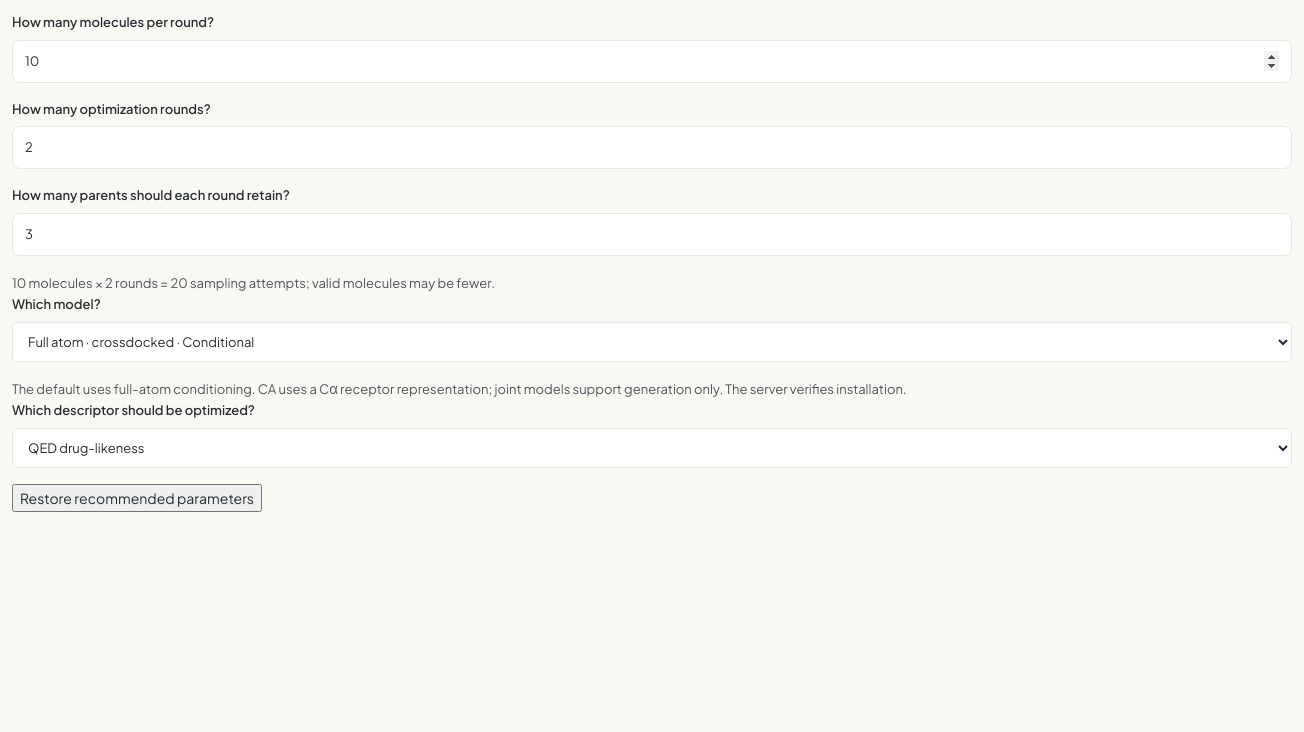
Test: shows actual optimization budget instead of an unused candidate count in en
The width and height of the screenshot is (1304, 732).
Replace the text in the number field labelled "How many molecules per round?" with "60". click: (652, 61)
box: 12,40 -> 1292,83
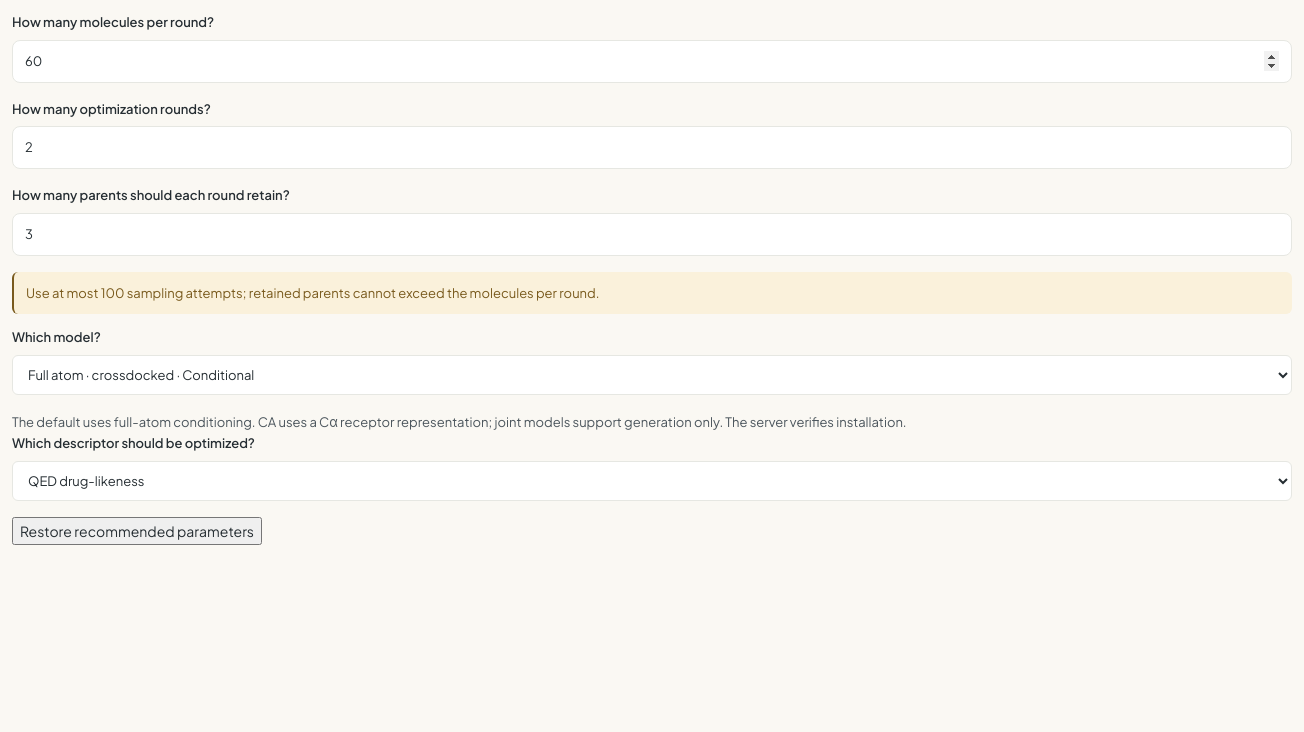
Check: the message shows "100", box 26,285 -> 599,301
Replace the text in the number field labelled "How many molecules per round?" with "12". click: (652, 61)
box: 12,40 -> 1292,83
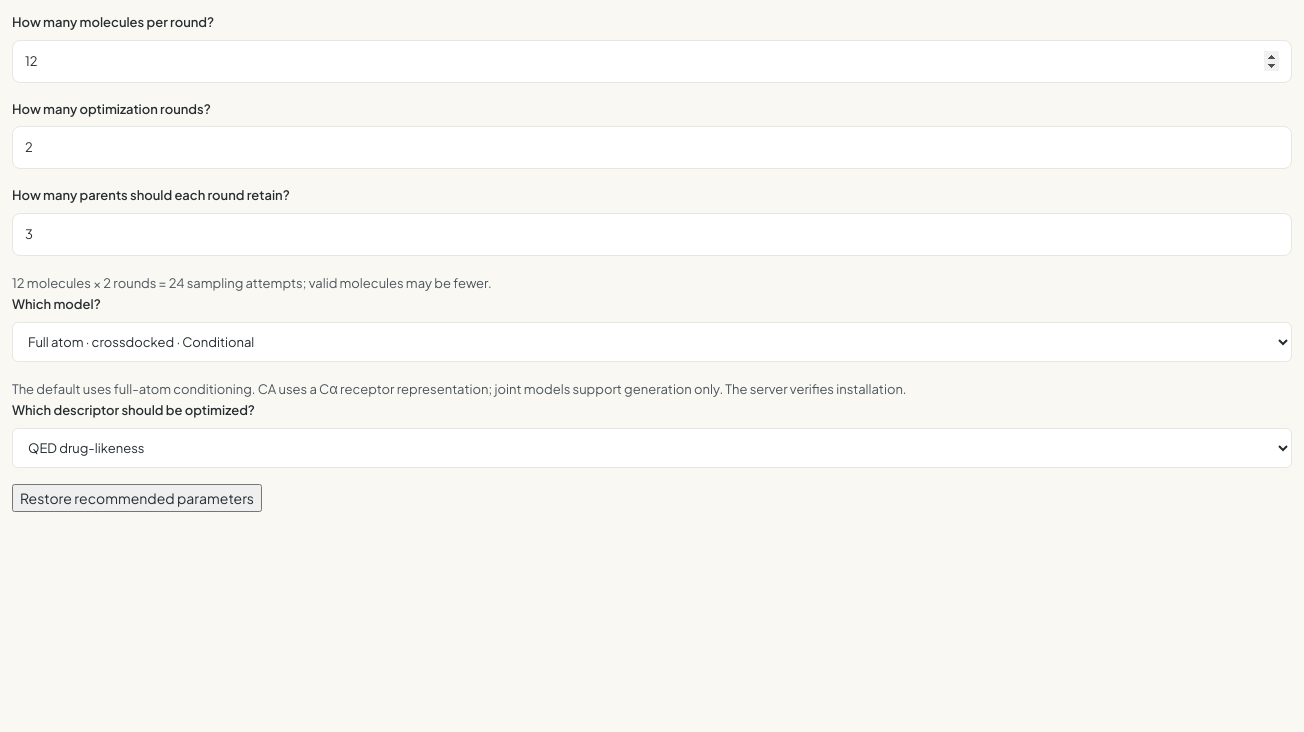
Check: the text "24 sampling attempts" is shown, box 12,275 -> 492,291
